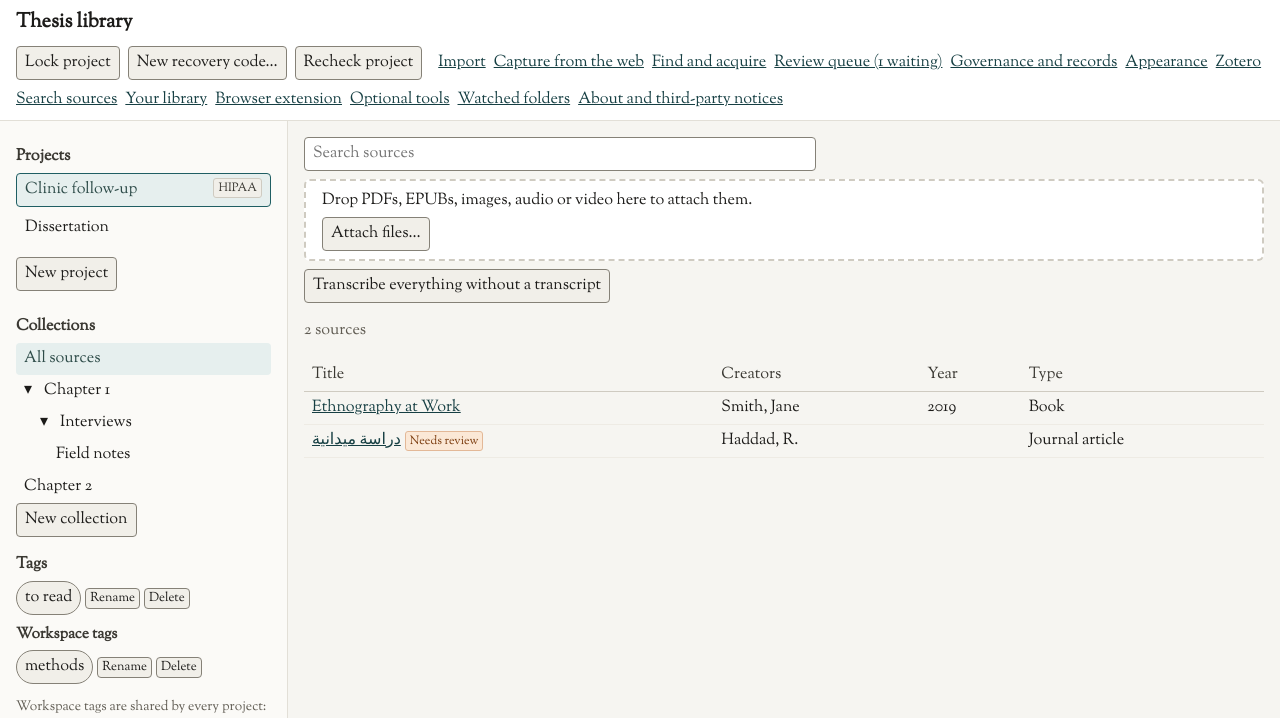
it: New recovery code dialog › asks for the passphrase before asking the service
Click the button "New recovery code…".
click(207, 63)  # box x1=128 y1=46 x2=286 y2=80
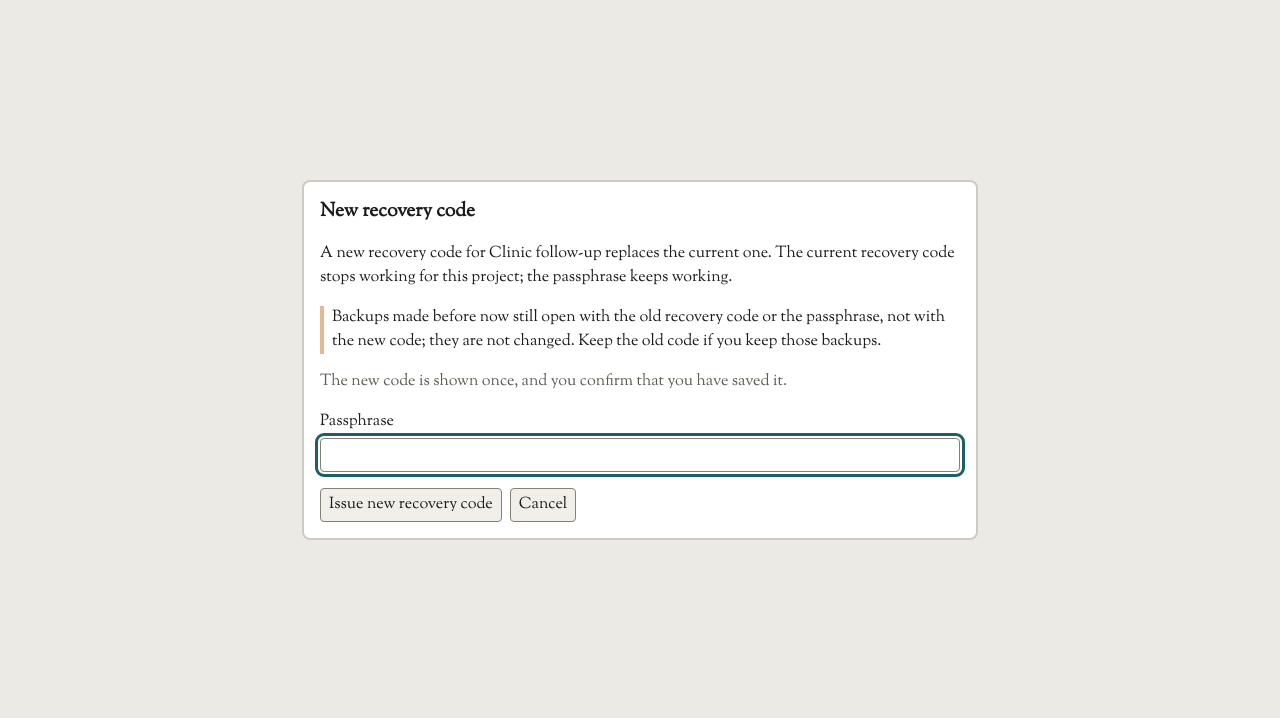
Click the button "Issue new recovery code".
click(411, 505)  # box x1=320 y1=488 x2=502 y2=522
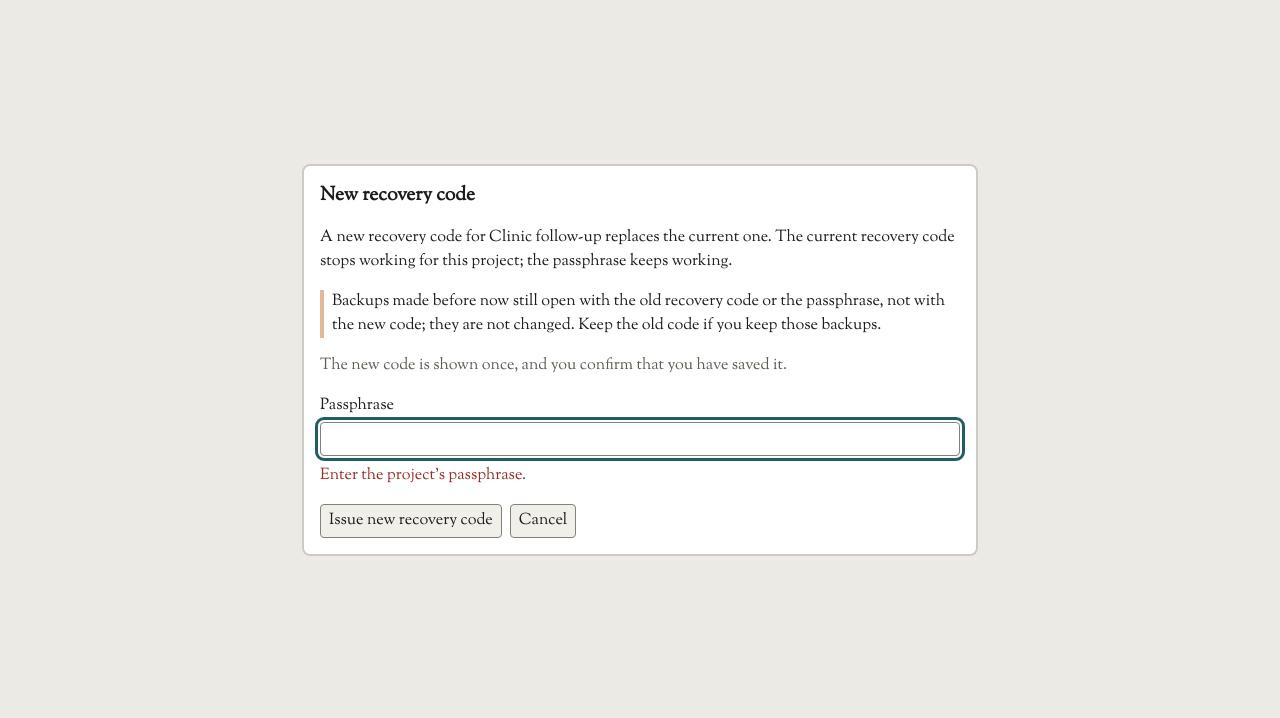
Result: the message shows "Enter the project's passphrase" at x1=320 y1=464 x2=526 y2=487
